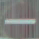No entry: (0, 3, 37, 38)
